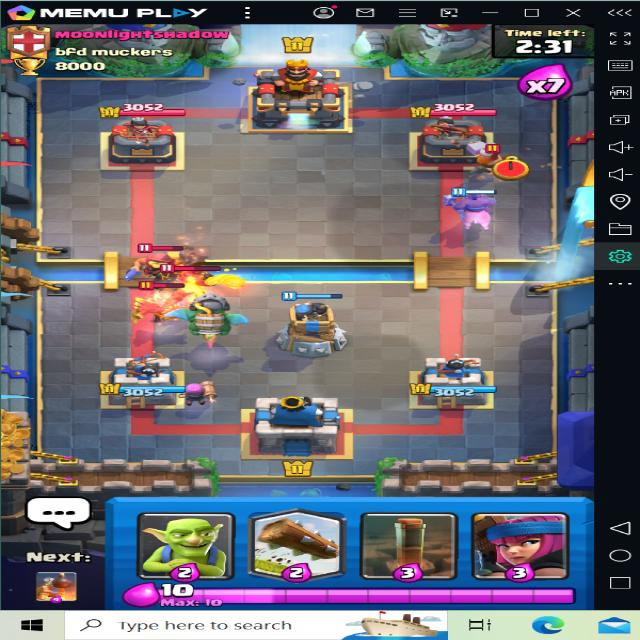Fisherman: (125, 246, 191, 278)
Lavahound: (140, 258, 222, 300)
Lumberjack: (460, 138, 520, 178)
Pheonix: (116, 282, 214, 327)
